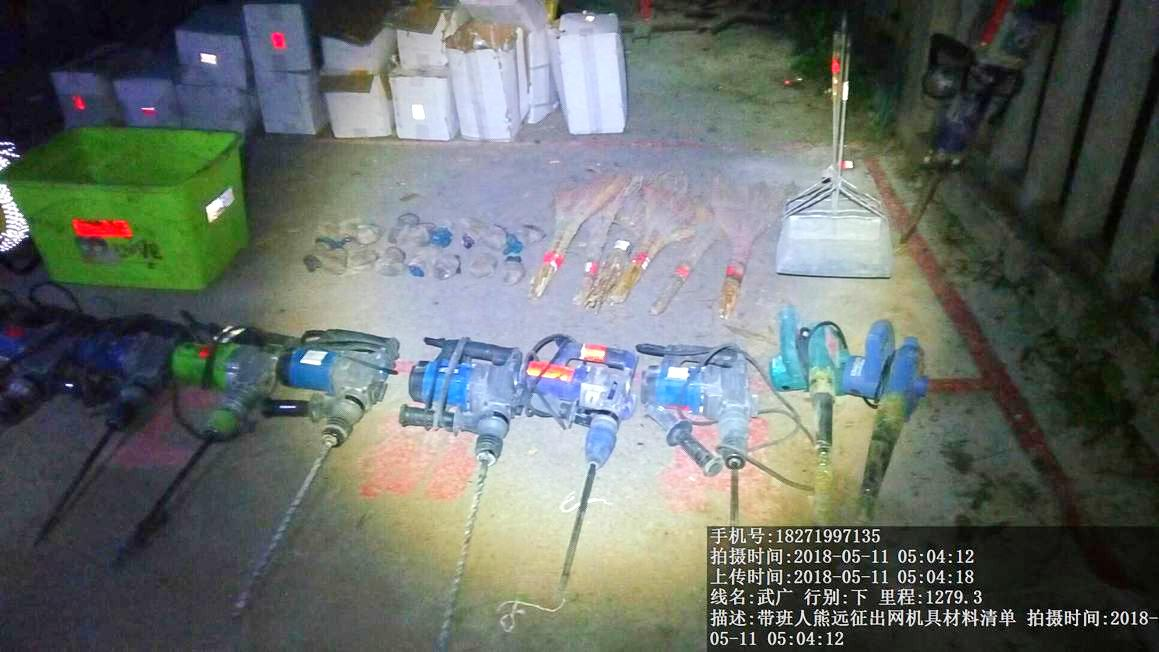DZ: (402, 328, 527, 521), (637, 341, 770, 519), (279, 326, 395, 504), (527, 345, 637, 516), (173, 329, 276, 488)
GFJ: (849, 317, 927, 502), (769, 323, 844, 498)
SB: (709, 175, 792, 315), (531, 172, 614, 305)
T: (5, 121, 256, 297)
